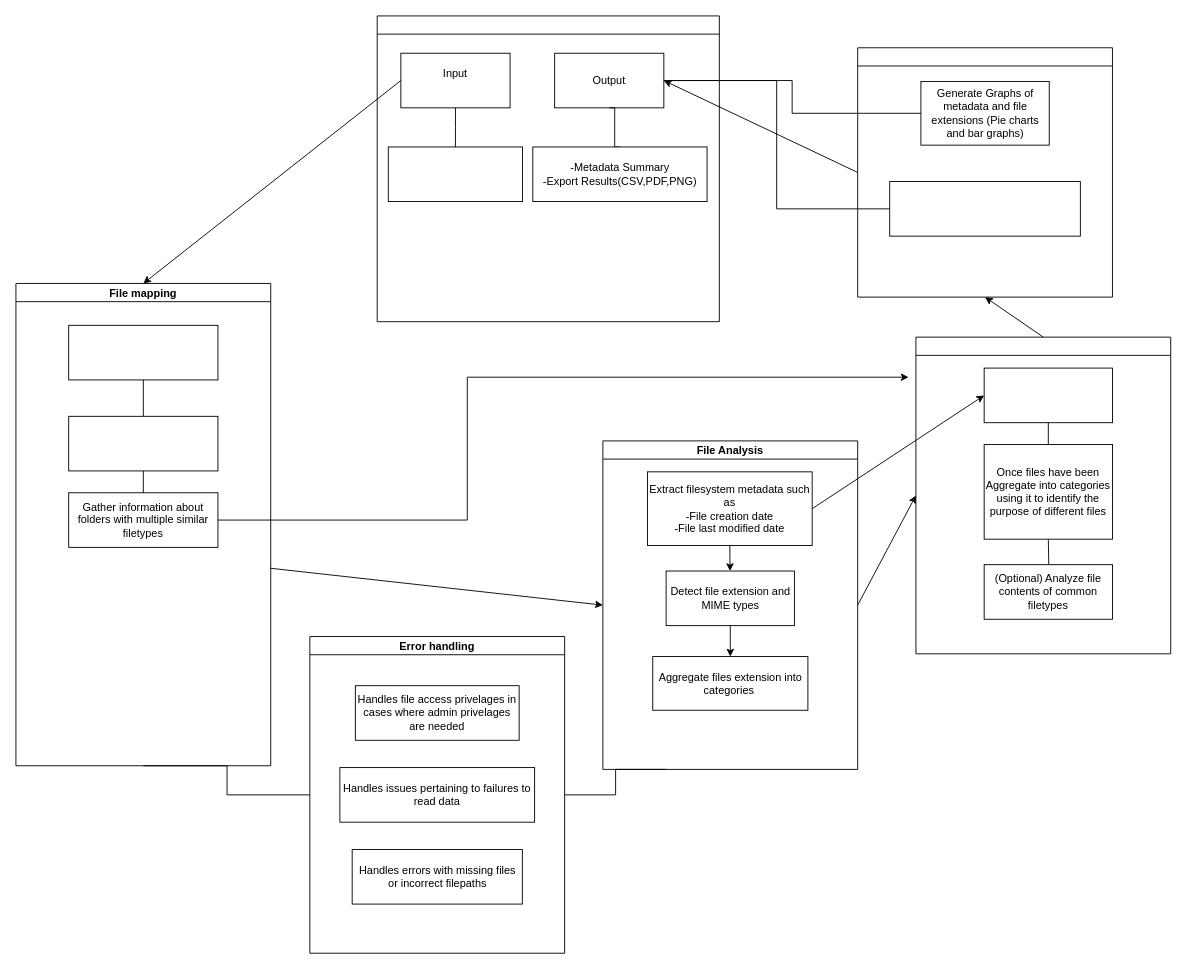
The diagram is 1187 pixels wide and 969 high, and some of its shapes have lost their labels. Here are the shapes that lost their labels. From the top down, the box of each, then its label:
(387, 146, 523, 202): File Upload UI (Drag-drop)
(376, 15, 719, 322): FrontEnd
(857, 47, 1112, 297): Graphing/visualization
(889, 181, 1080, 236): Create Summaries(Tables,reports)
(68, 324, 218, 380): Map file heirarchy to a tree
(983, 367, 1112, 423): Process metadata into measurable data
(68, 415, 218, 471): Differentiate folders from files
(915, 336, 1171, 654): Data Analysis
